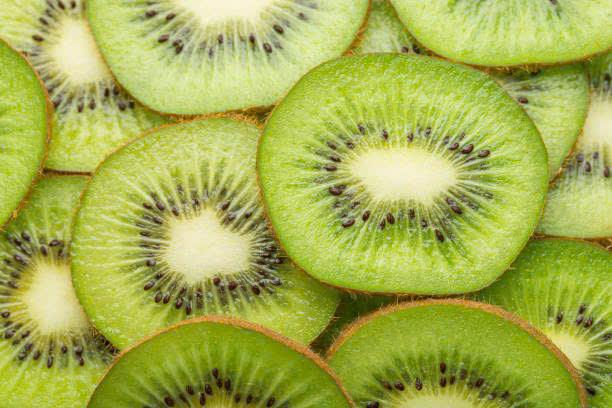kiwi: (238, 29, 564, 308), (27, 100, 312, 331), (93, 7, 379, 104), (63, 316, 336, 408), (342, 315, 575, 408)
